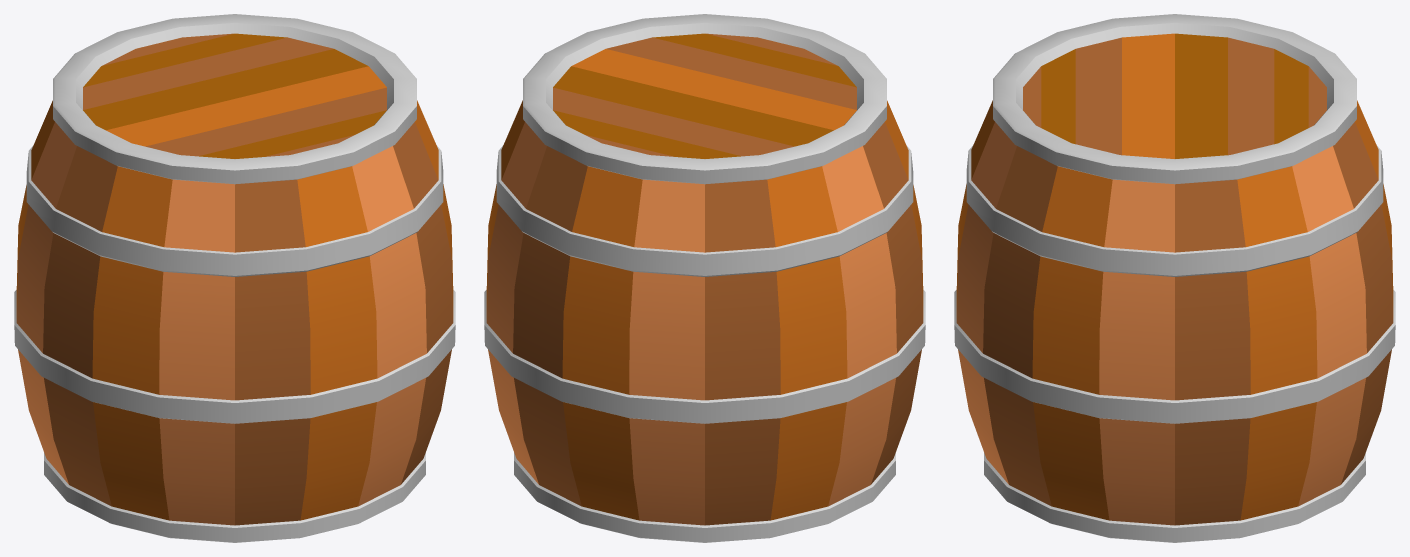
The model's file is Barrel.fbx.
3 renders of one model, left to right at view 1: azimuth 30°, elevation 25°; view 2: azimuth 150°, elevation 25°; view 3: azimuth 270°, elevation 25°, orthographic.
Parts seen in each view (by area): view 1: Barrel_LOD0; view 2: Barrel_LOD0; view 3: Barrel_LOD0.
Part boxes in pixels (bbox=[...]): Barrel_LOD0: bbox=[14, 14, 455, 542]; Barrel_LOD0: bbox=[484, 14, 925, 542]; Barrel_LOD0: bbox=[954, 14, 1395, 542].
Size of what is drawn, in the model's own units: 126 by 115 by 124.
